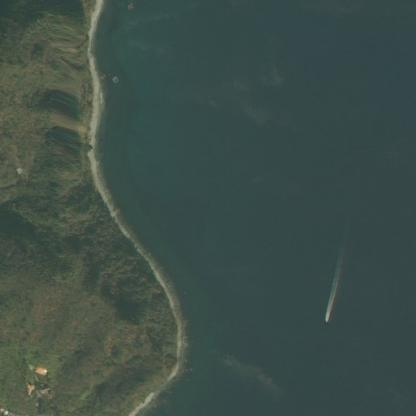ship: (318, 310, 338, 326)
